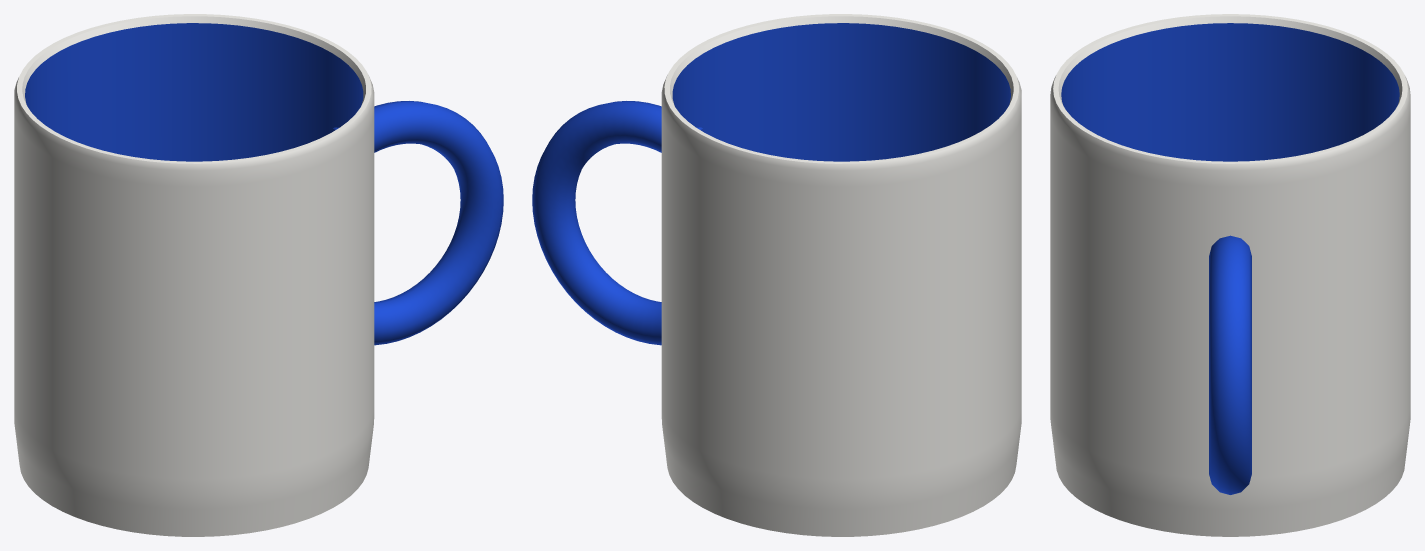
Rendered from mug.glb.
3 views of the same model, side by side, from view 1: azimuth 30°, elevation 25°; view 2: azimuth 150°, elevation 25°; view 3: azimuth 270°, elevation 25° (orthographic).
Visible parts, largest first — view 1: Body, Inside, Handle; view 2: Body, Inside, Handle; view 3: Body, Inside, Handle.
Boxes of the visible parts, bbox=[...] form: Body: bbox=[14, 14, 374, 536]; Inside: bbox=[25, 23, 363, 161]; Handle: bbox=[333, 101, 503, 345]; Body: bbox=[661, 14, 1021, 536]; Inside: bbox=[672, 23, 1010, 161]; Handle: bbox=[532, 101, 702, 345]; Body: bbox=[1050, 14, 1410, 536]; Inside: bbox=[1061, 23, 1399, 161]; Handle: bbox=[1209, 235, 1251, 494].
Size of the model in its own units: 0.1216 by 0.095 by 0.082.
